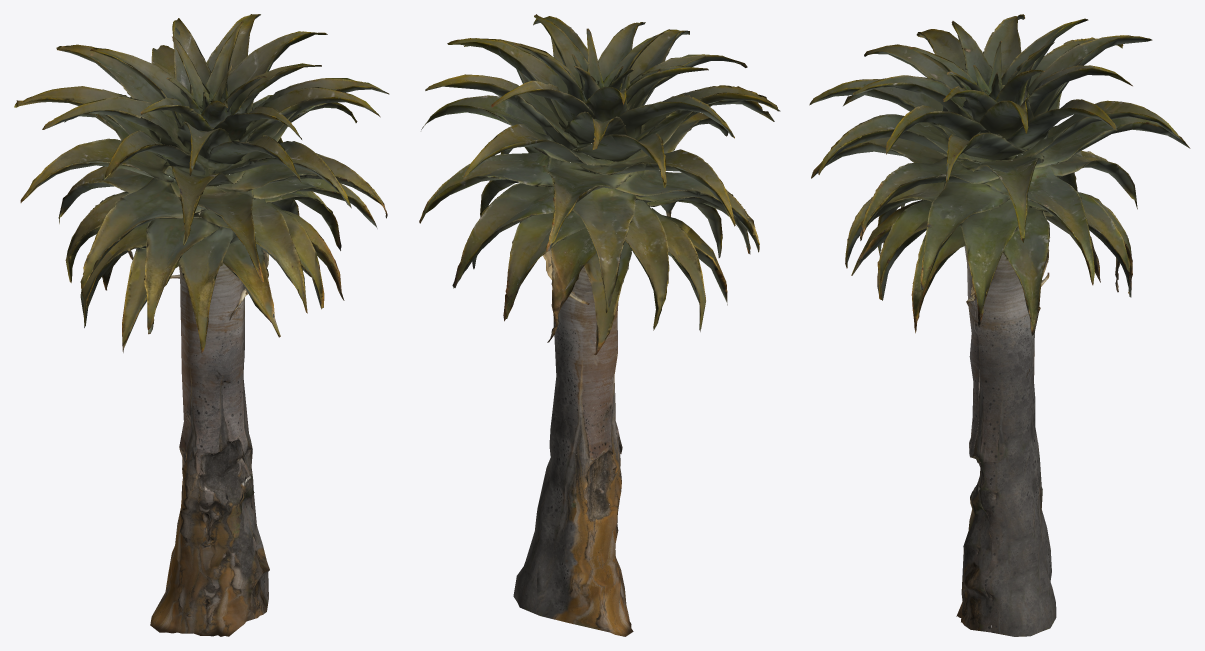
The model's file is quiver_tree_02-game.glb.
3 views of the same model, side by side, from view 1: azimuth 30°, elevation 25°; view 2: azimuth 150°, elevation 25°; view 3: azimuth 270°, elevation 25° (orthographic).
Parts seen in each view (by area): view 1: quiver_tree_02; view 2: quiver_tree_02; view 3: quiver_tree_02.
Boxes of the visible parts, box(x1,y1,x2,y2) form: quiver_tree_02: box(14, 14, 389, 636); quiver_tree_02: box(419, 14, 780, 636); quiver_tree_02: box(809, 14, 1190, 636).
Bounding box in the file's own units: 0.8707 × 1.47 × 0.8784.
1 material, 1 textured.
